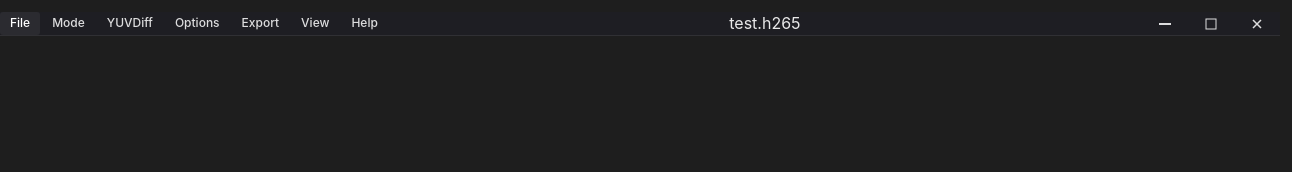
Test: TitleBar menu actions › should have Help options
Hover over the text "Help" at (365, 24), box [351,15,378,32]
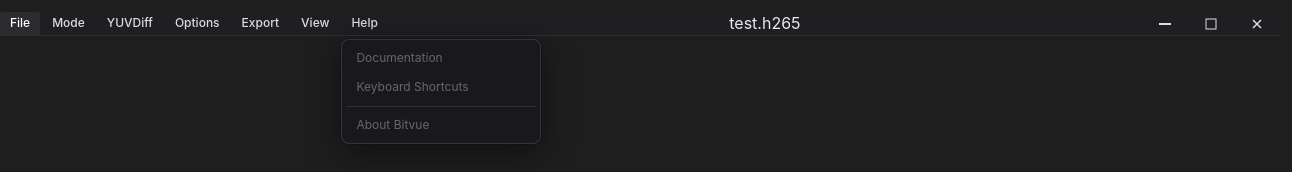
Now the text "Documentation" is shown, box [356,50,443,65]
Now the text "Keyboard Shortcuts" is shown, box [356,79,469,94]
